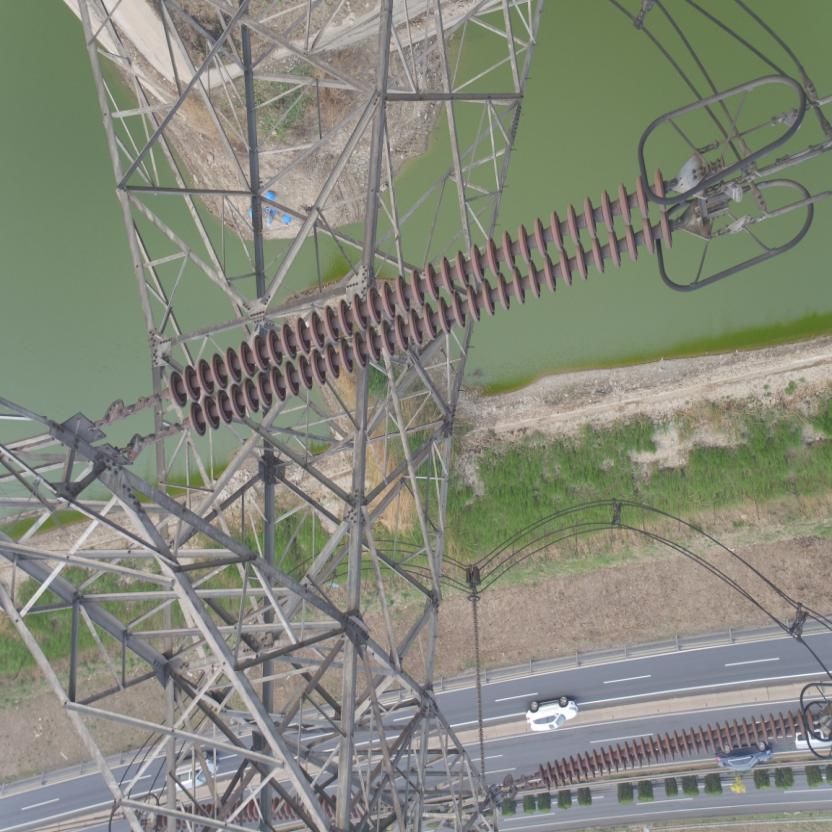insulator: (143, 167, 693, 445), (526, 704, 822, 796)
